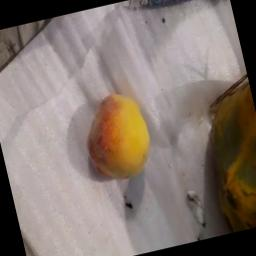Peach Unripe: (61, 72, 176, 195)
